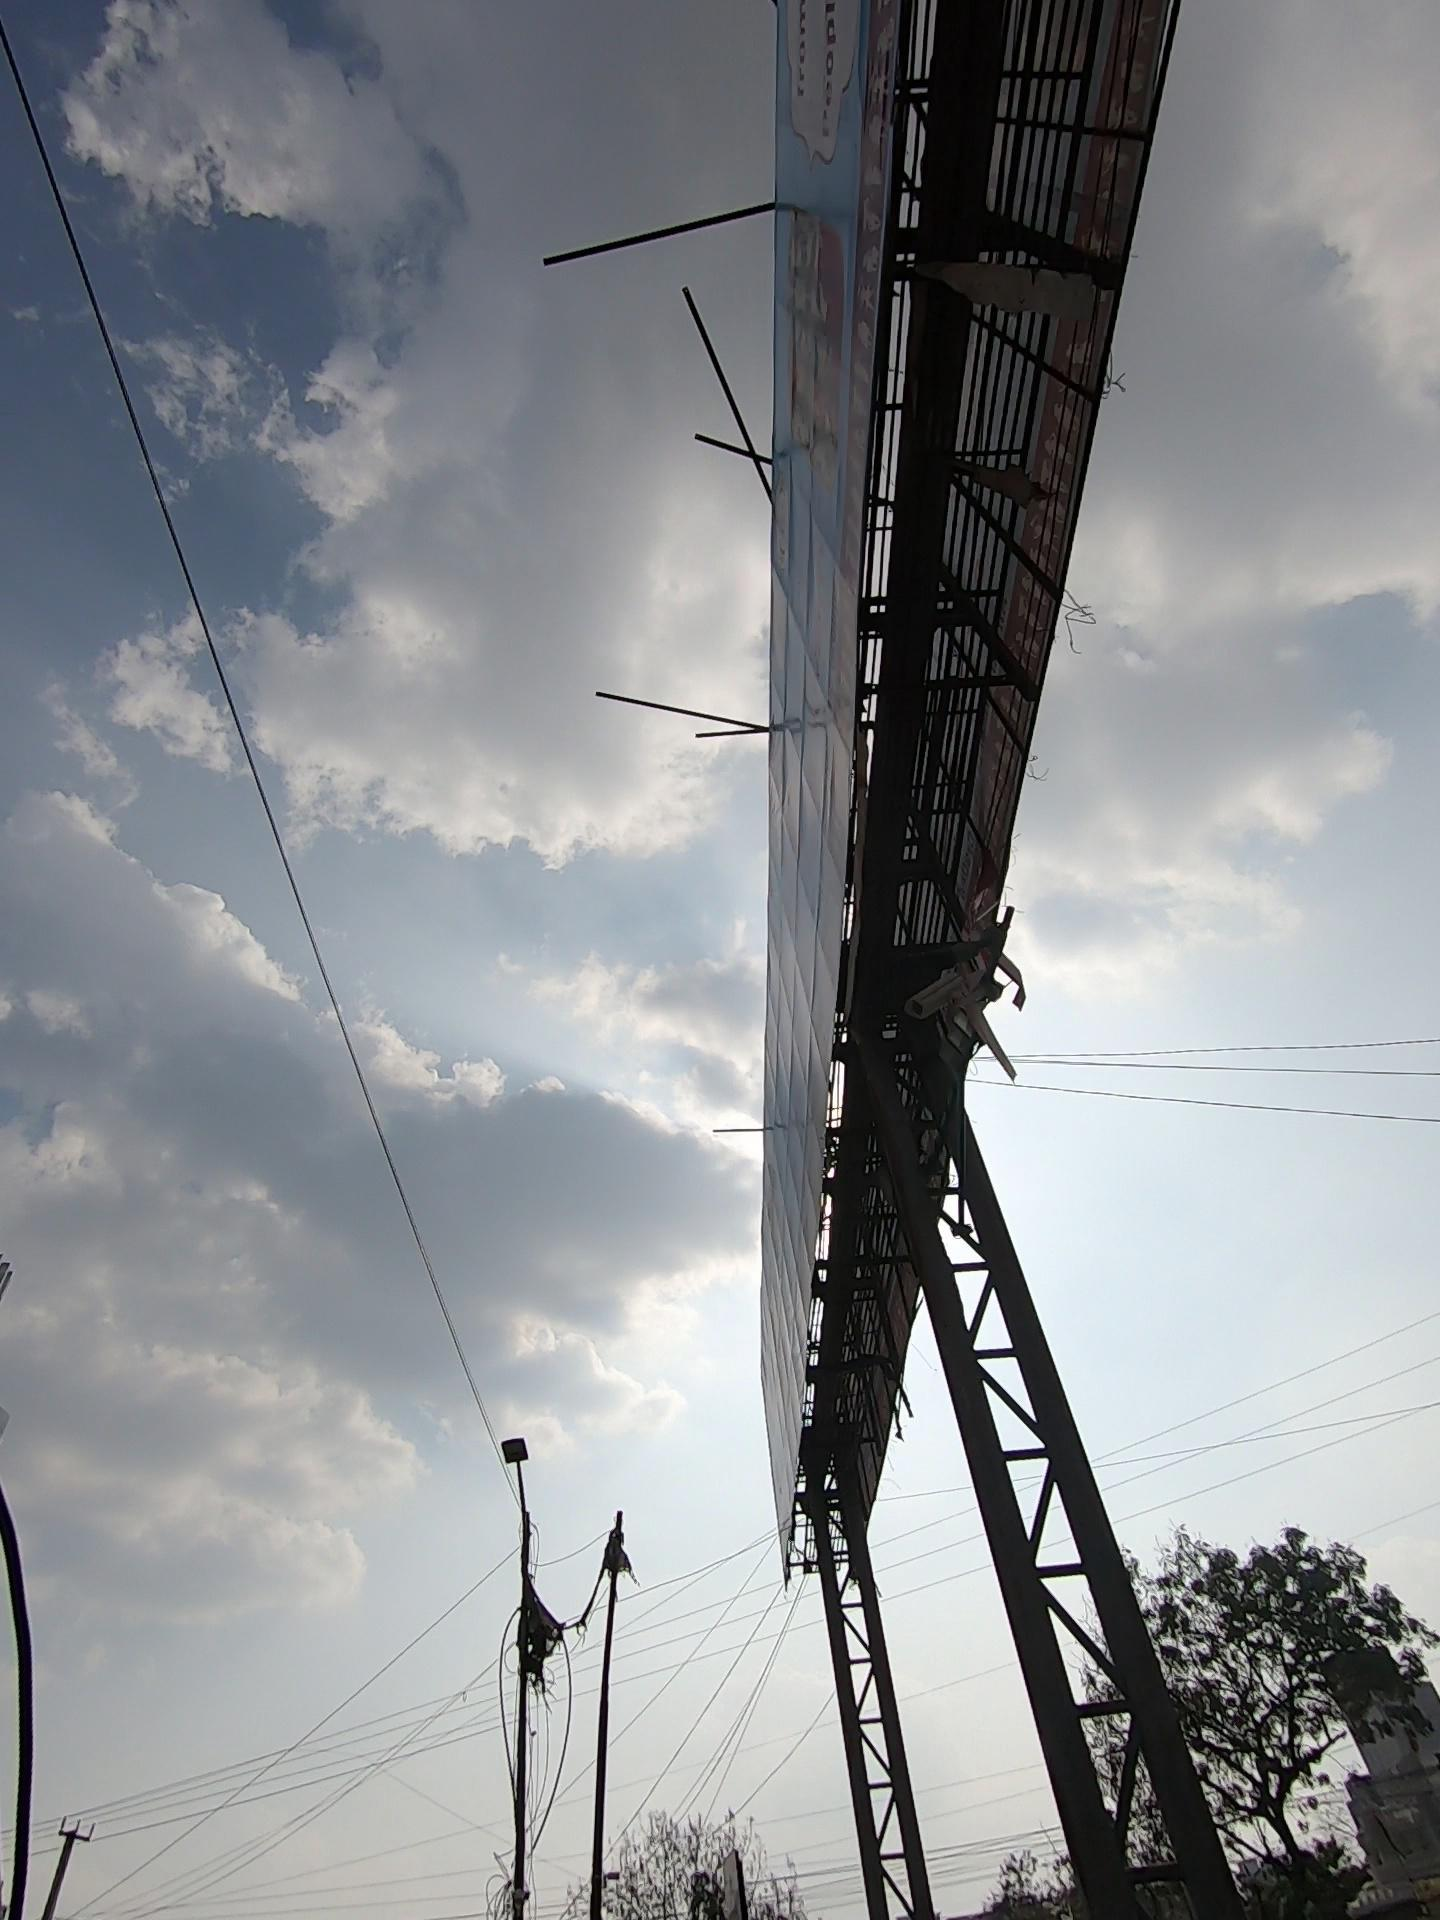on: (399, 1376, 791, 1648)
